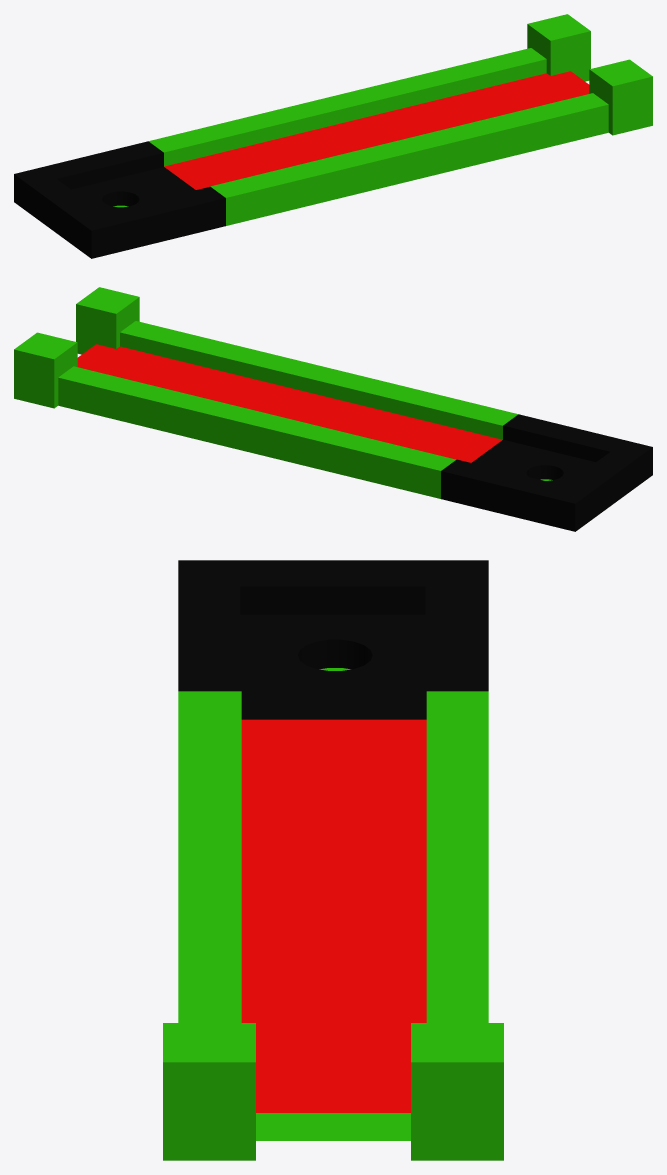
The model's file is level2_p2.FBX.
3 renders of one model, top to bottom at view 1: azimuth 30°, elevation 25°; view 2: azimuth 150°, elevation 25°; view 3: azimuth 270°, elevation 25°, orthographic. The views are drawn at different scales.
Visible parts, largest first — view 1: level2_p002; view 2: level2_p002; view 3: level2_p002.
Boxes of the visible parts, x1,y1,x2,y2 form: level2_p002: [14, 14, 652, 258]; level2_p002: [14, 287, 652, 531]; level2_p002: [163, 560, 503, 1160].
Bounding box in the file's own units: 415 × 45 × 110.
